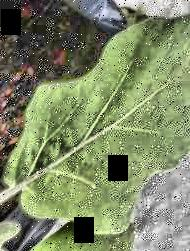HEALTHY: (0, 1, 190, 251)
